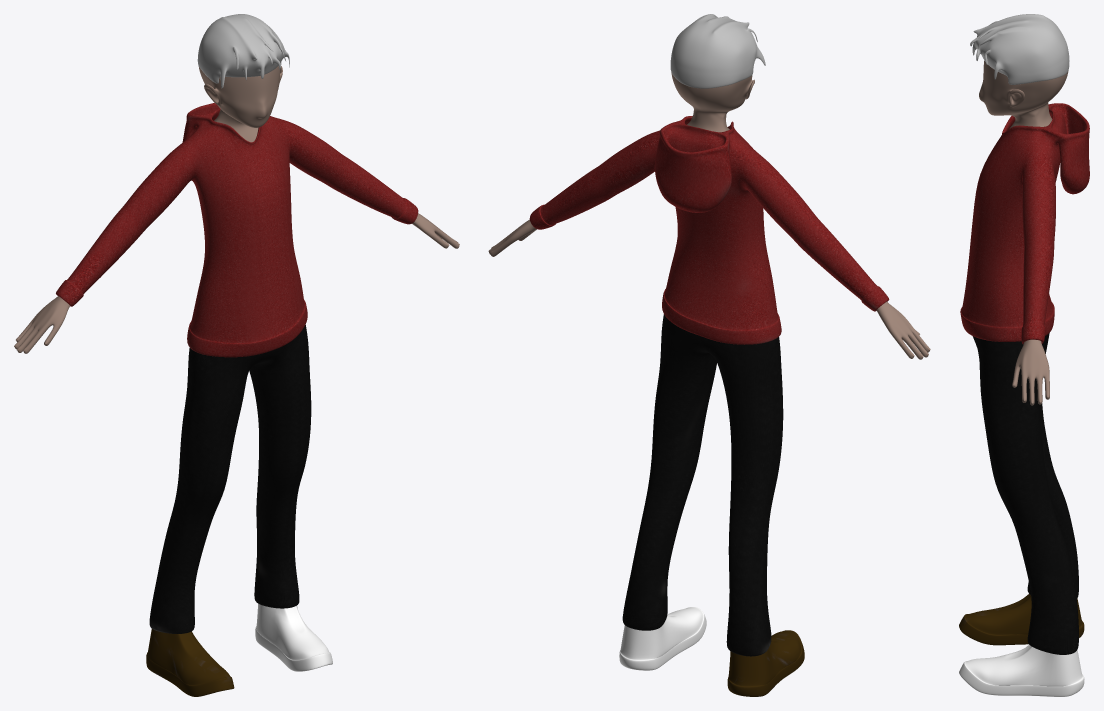
Rendered from Boy.fbx.
3 renders of one model, left to right at view 1: azimuth 30°, elevation 25°; view 2: azimuth 150°, elevation 25°; view 3: azimuth 270°, elevation 25°, orthographic.
Visible parts, largest first — view 1: Boy_Geo2; view 2: Boy_Geo2; view 3: Boy_Geo2.
Part boxes in pixels (bbox=[...]): Boy_Geo2: bbox=[14, 14, 459, 696]; Boy_Geo2: bbox=[488, 14, 930, 696]; Boy_Geo2: bbox=[959, 14, 1089, 696].
Bounding box in the file's own units: 1.06 × 1.48 × 0.2727.
